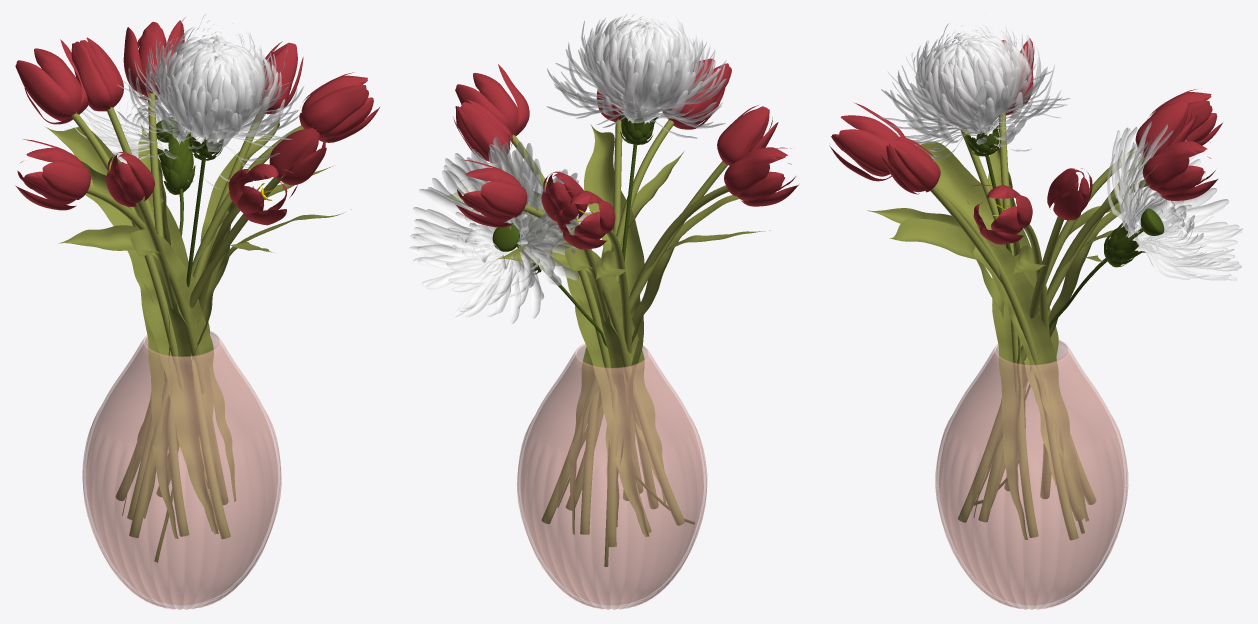
The model's file is bouquet_1734972516332.glb.
3 renders of one model, left to right at view 1: azimuth 30°, elevation 25°; view 2: azimuth 150°, elevation 25°; view 3: azimuth 270°, elevation 25°, orthographic. The views are drawn at different scales.
Size of the model in its own units: 1.75 by 2.76 by 1.82.
